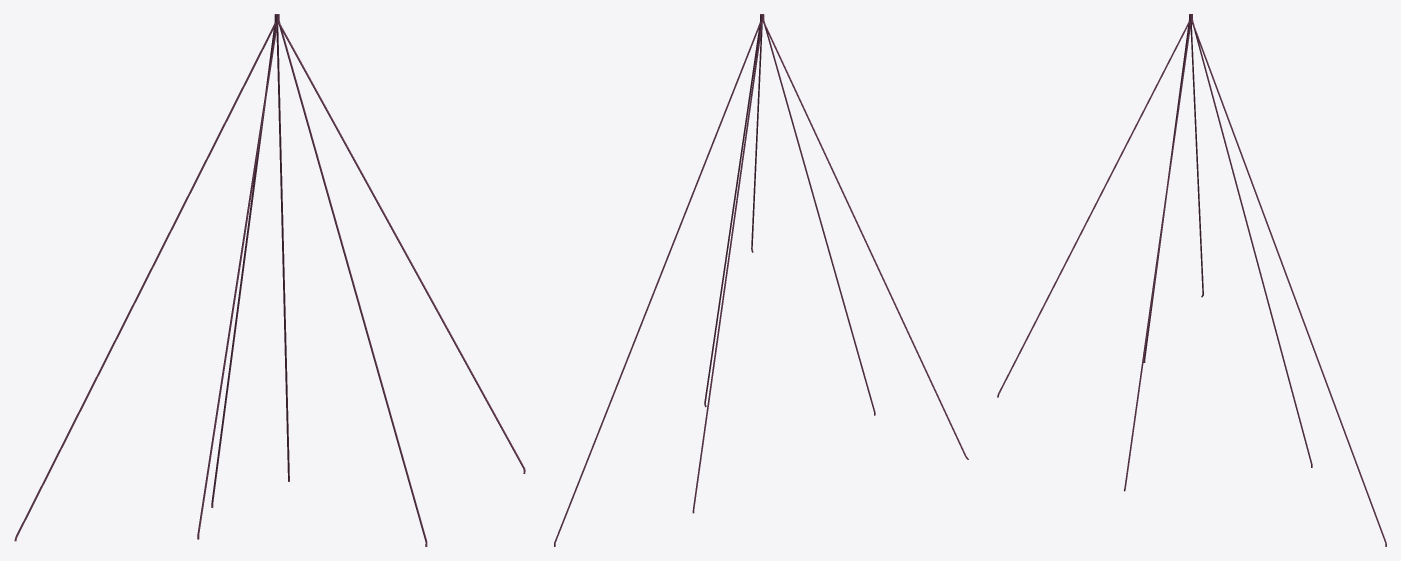
The model's file is String.fbx.
3 renders of one model, left to right at view 1: azimuth 30°, elevation 25°; view 2: azimuth 150°, elevation 25°; view 3: azimuth 270°, elevation 25°, orthographic. The views are drawn at different scales.
Visible parts, largest first — view 1: BeInspiration_69:Line005_1; view 2: BeInspiration_69:Line005_1; view 3: BeInspiration_69:Line005_1.
Part boxes in pixels (x1,y1,x2,y2): BeInspiration_69:Line005_1: (14, 14, 525, 546); BeInspiration_69:Line005_1: (554, 14, 968, 546); BeInspiration_69:Line005_1: (997, 14, 1386, 546).
Bounding box in the file's own units: 117 × 169 × 124.
